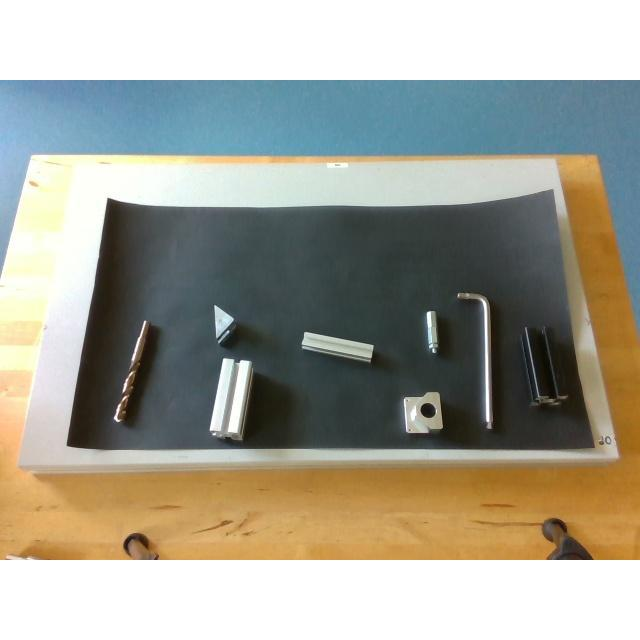AllenKey: (458, 291, 494, 431)
Drill: (114, 320, 150, 424)
F20_20_G: (301, 331, 373, 361)
S40_40_B: (524, 326, 580, 404)
S40_40_G: (210, 358, 252, 438)
